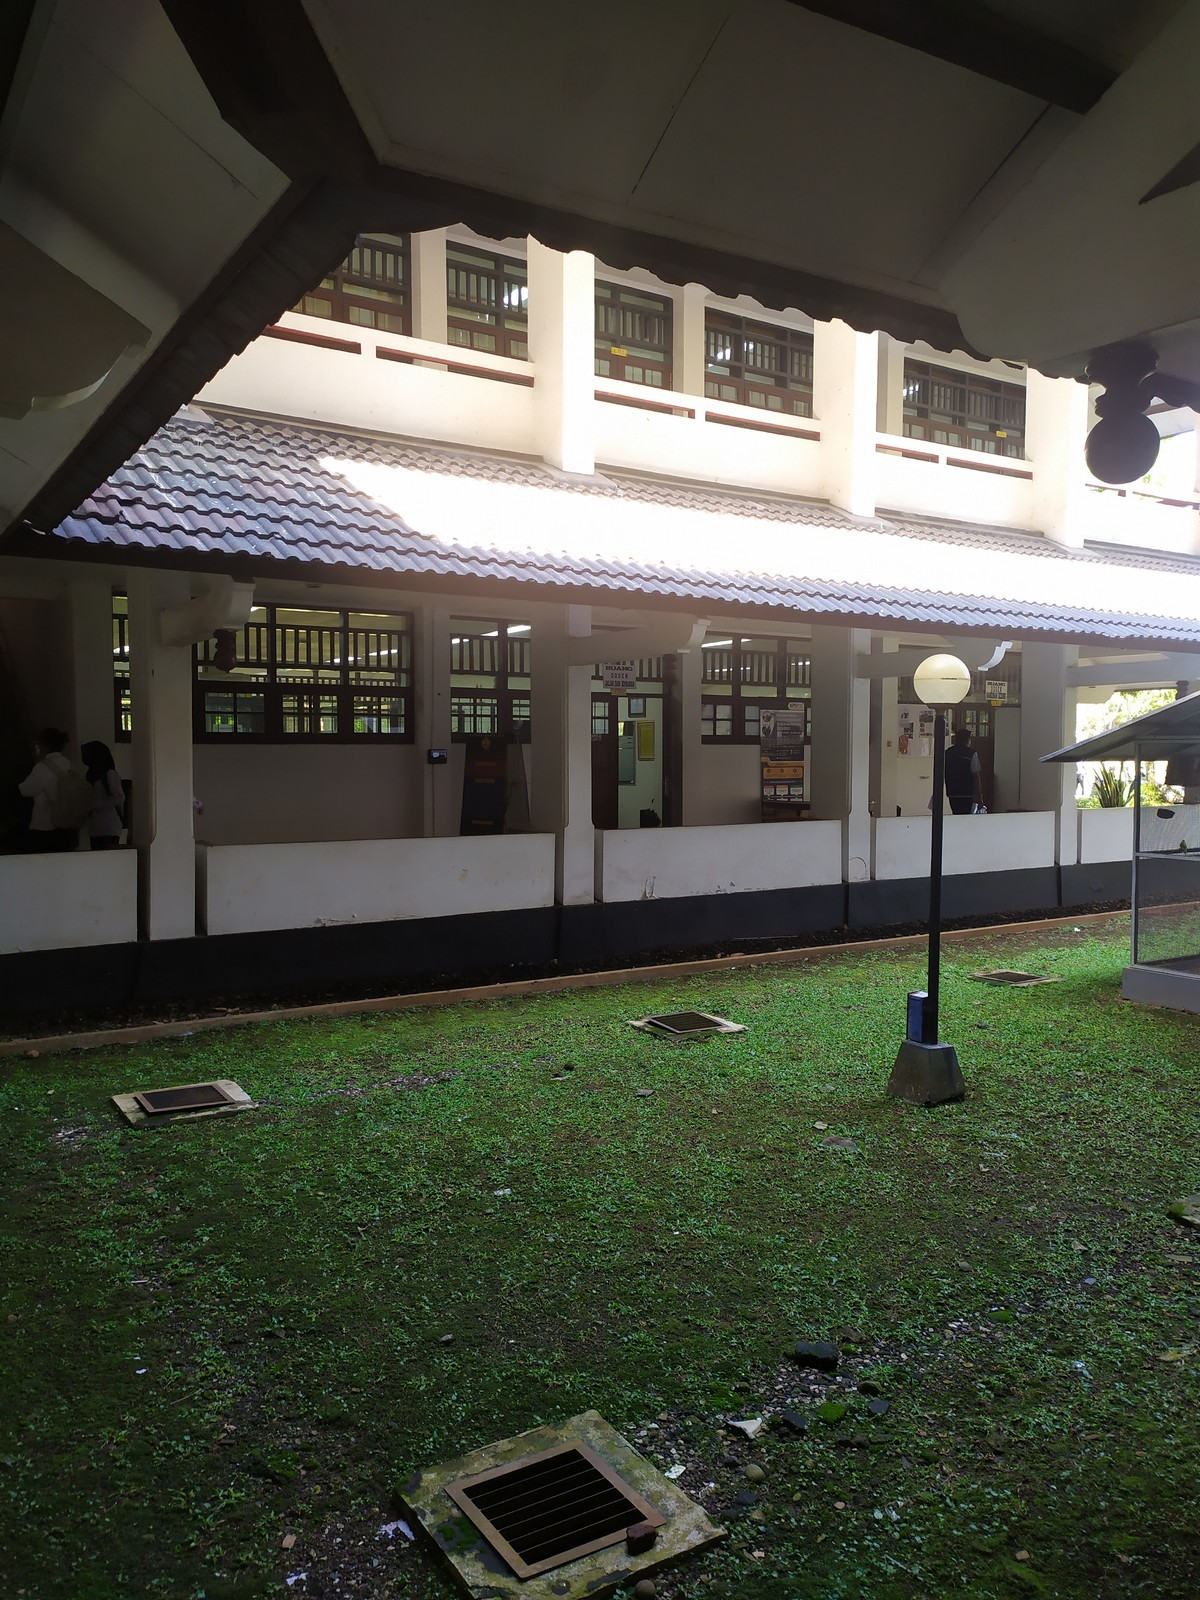concrete column: (129, 590, 204, 952), (534, 624, 606, 913), (522, 251, 604, 477), (808, 650, 884, 886), (803, 324, 886, 522)
